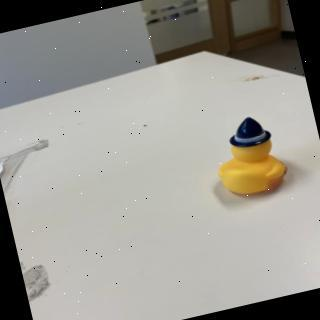duck_specialty: (206, 110, 295, 203)
